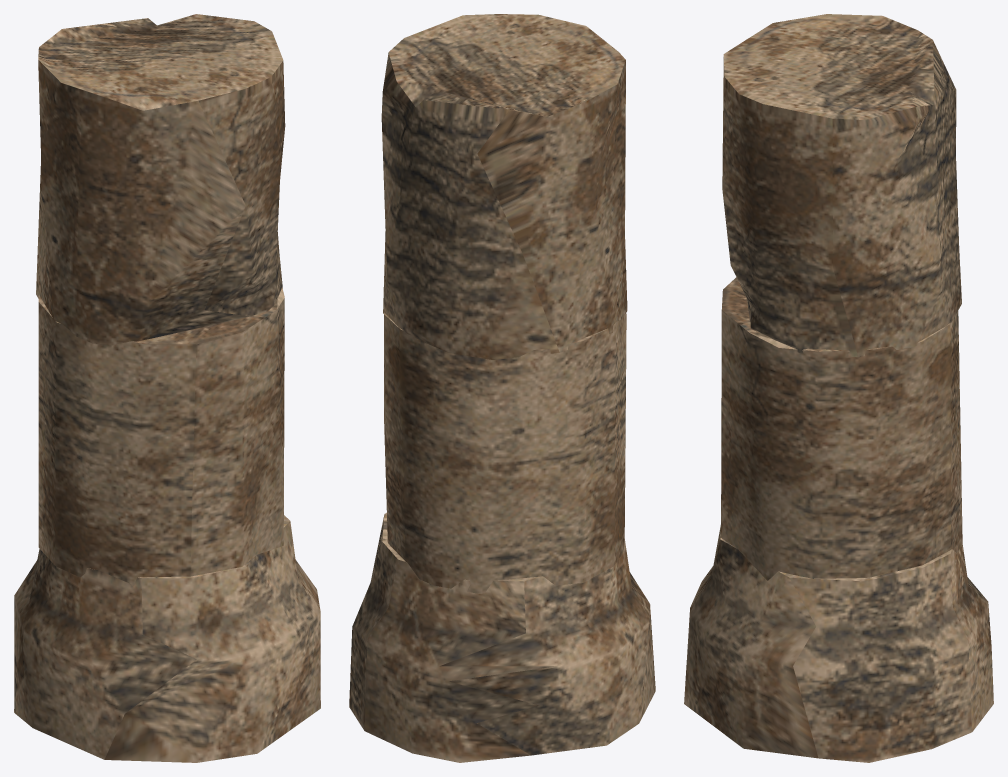
File: DruinPillarSet05.FBX
3 renders of one model, left to right at view 1: azimuth 30°, elevation 25°; view 2: azimuth 150°, elevation 25°; view 3: azimuth 270°, elevation 25°, orthographic. The views are drawn at different scales.
Parts seen in each view (by area): view 1: DruinPillarSet05; view 2: DruinPillarSet05; view 3: DruinPillarSet05.
Boxes of the visible parts, bbox=[...] form: DruinPillarSet05: bbox=[14, 14, 320, 762]; DruinPillarSet05: bbox=[349, 14, 655, 762]; DruinPillarSet05: bbox=[684, 14, 993, 762].
Bounding box in the file's own units: 163 × 370 × 164.
